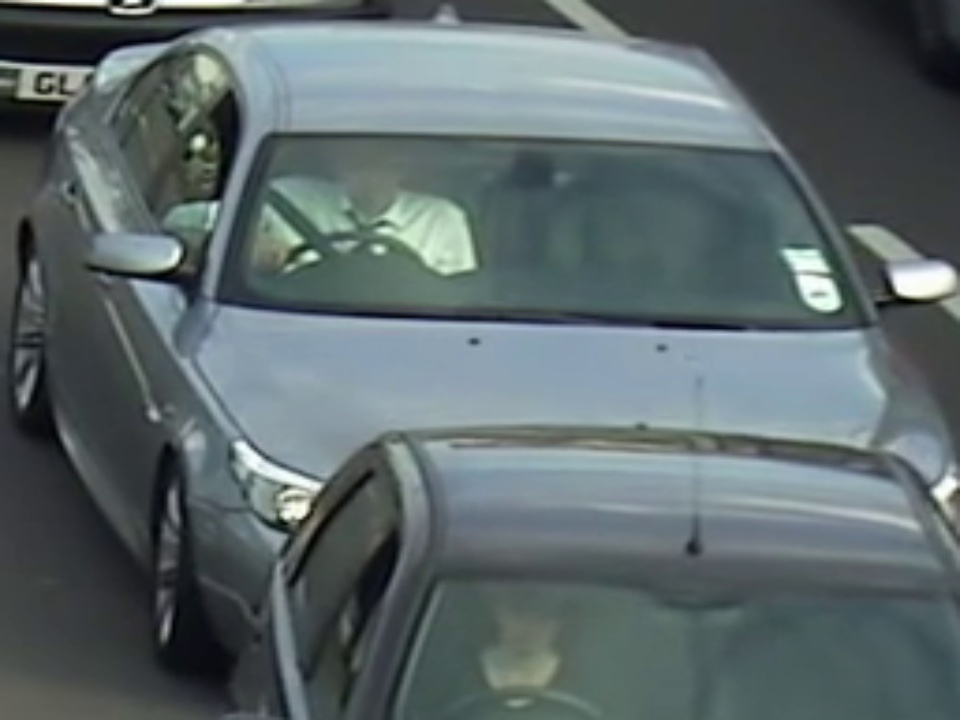ONE: (242, 120, 837, 329)
